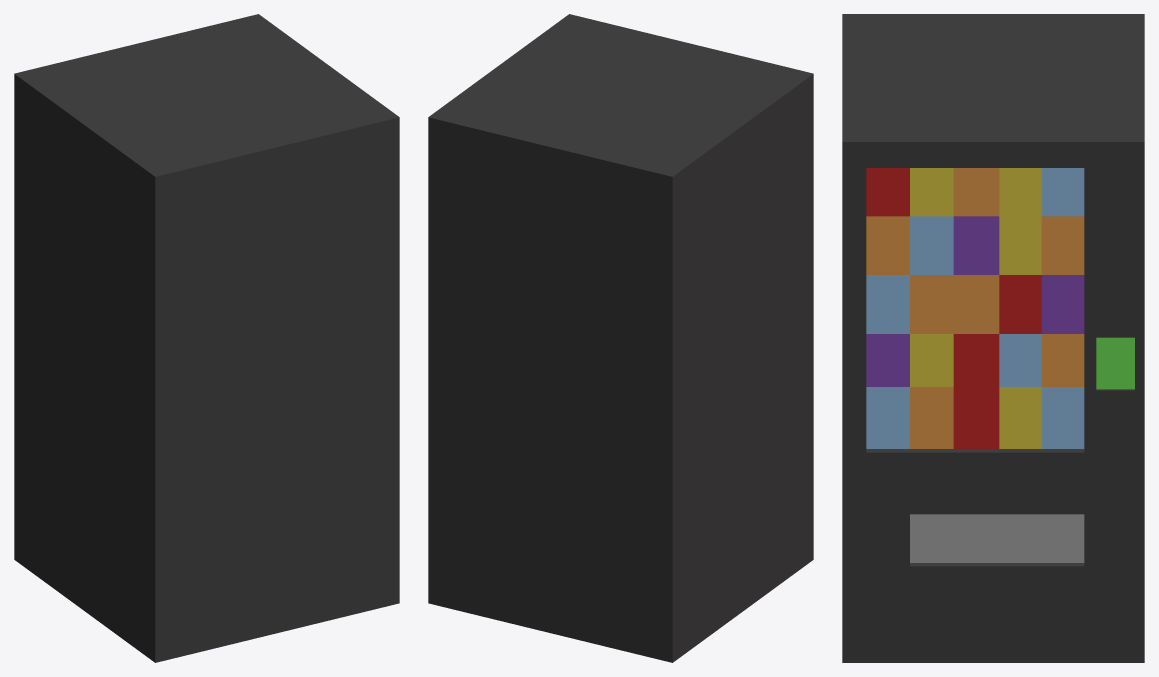
File: Vending Machine.fbx
3 views of the same model, side by side, from view 1: azimuth 30°, elevation 25°; view 2: azimuth 150°, elevation 25°; view 3: azimuth 270°, elevation 25° (orthographic). The views are drawn at different scales.
Visible parts, largest first — view 1: Cube.005; view 2: Cube.005; view 3: Cube.005.
Boxes of the visible parts, box(x1,y1,x2,y2) form: Cube.005: box(14, 14, 399, 662); Cube.005: box(428, 14, 813, 662); Cube.005: box(842, 14, 1144, 662).
Size of the model in its own units: 250 by 475 by 250.
